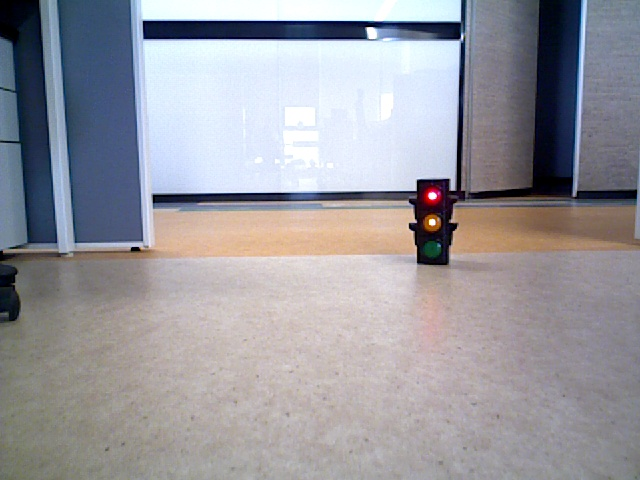red: (419, 180, 449, 260)
